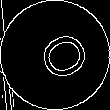O_SW: (22, 24, 88, 86)
